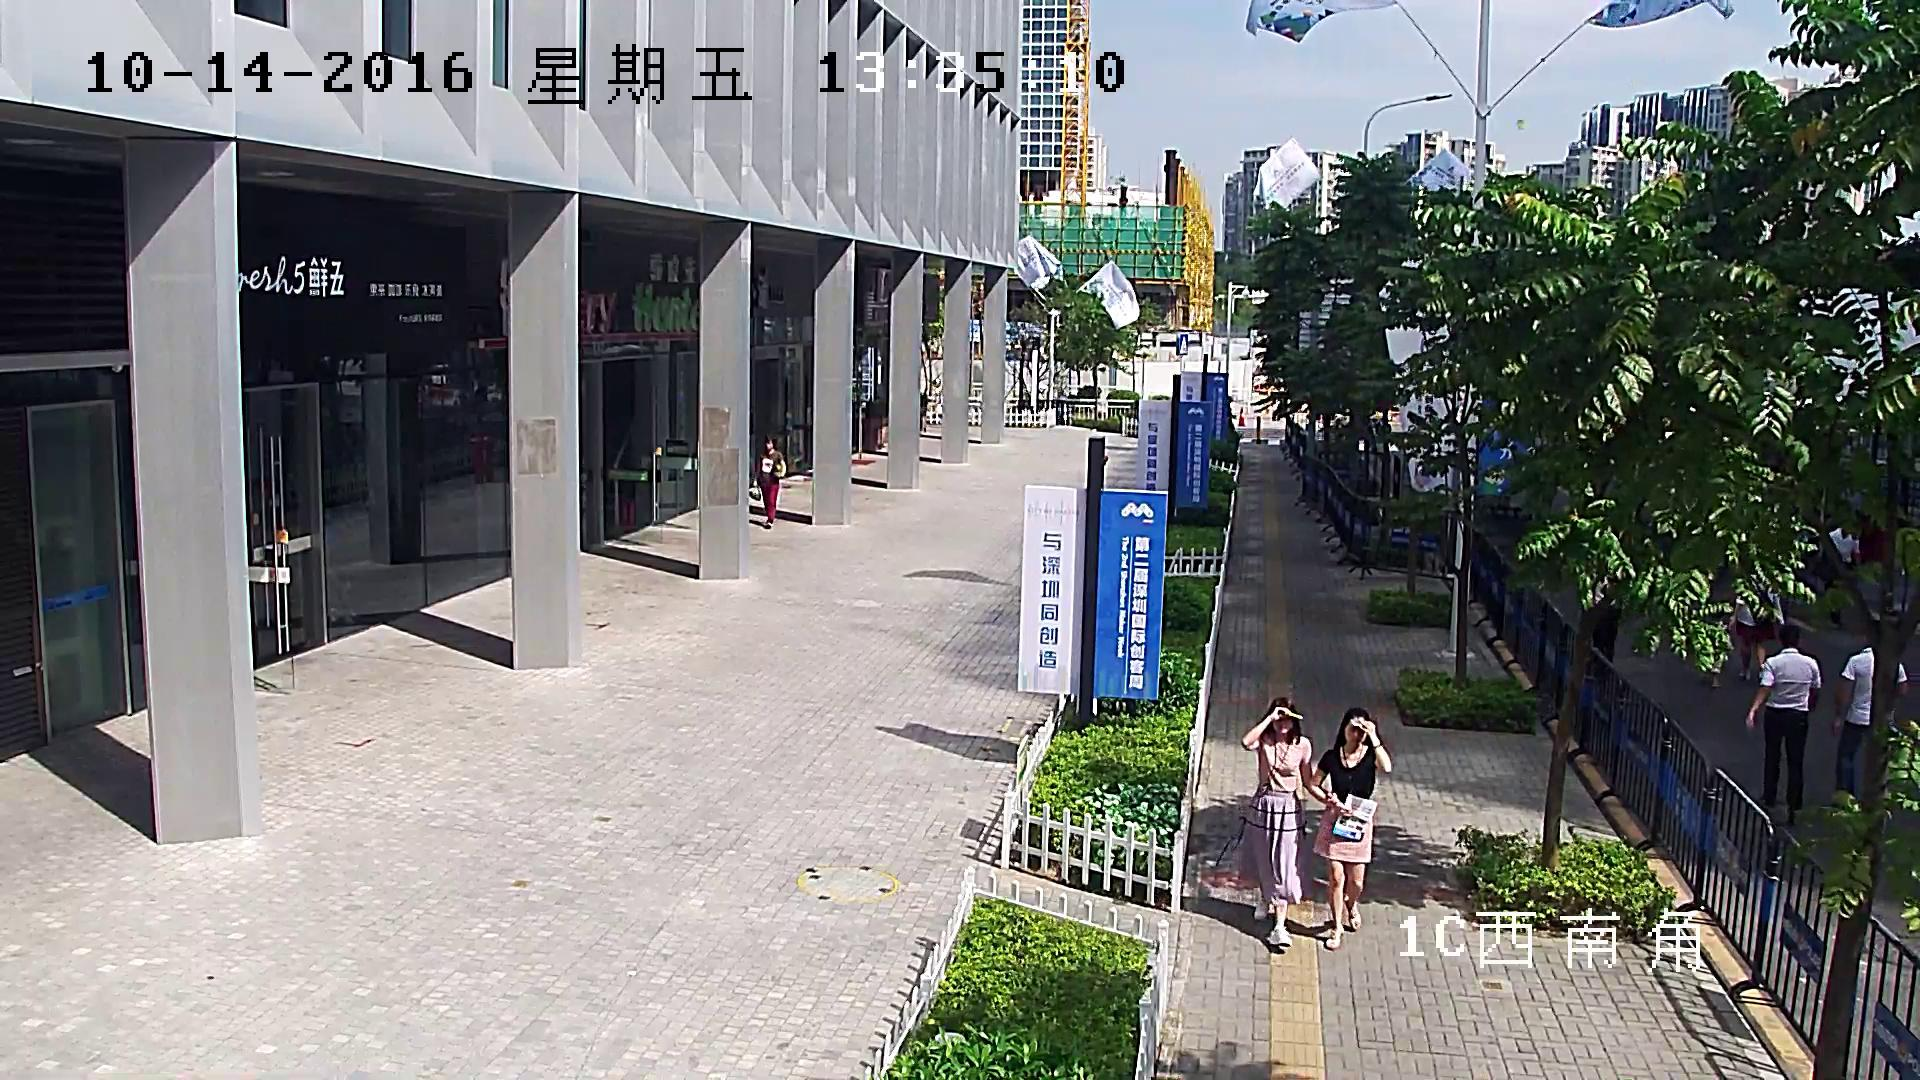person: (1212, 695, 1353, 948), (1310, 706, 1392, 951), (1743, 624, 1822, 827), (1827, 619, 1909, 797), (1733, 596, 1777, 684), (748, 431, 787, 529), (1829, 525, 1863, 631)
